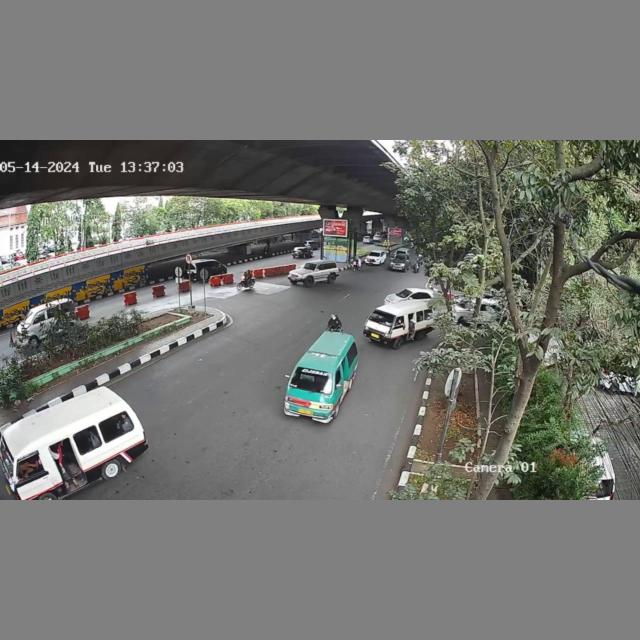windshield: (292, 366, 334, 395), (367, 308, 397, 327)
